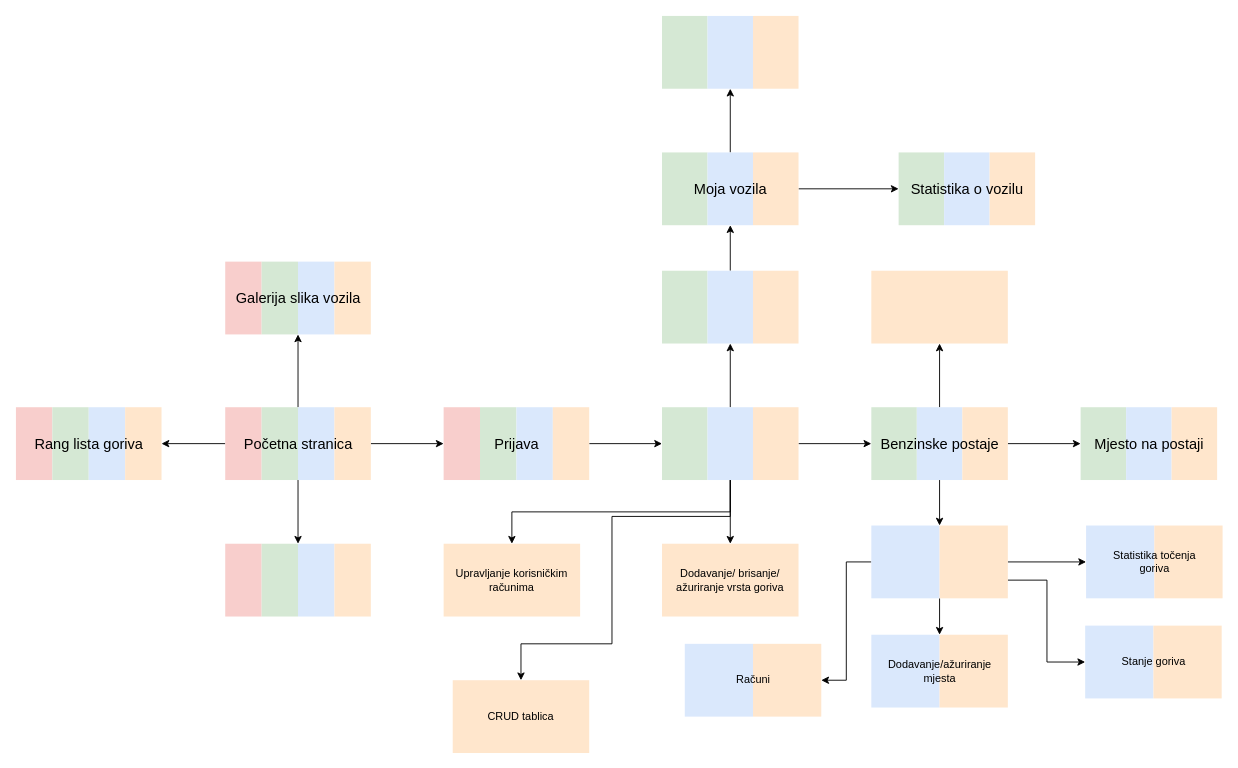
Some shapes in this 1238 by 768 pixel diagram are drawn without their labels. Each missing label, with the box of its shape:
Dodavanje/ brisanje/ ažuriranje postaja: (871, 270, 1007, 343)
Moj profil: (707, 270, 753, 343)
Podatci o vozilu: (707, 15, 753, 88)
Prijavljeni korisnik početna: (707, 407, 753, 480)
Registracija: (298, 543, 334, 616)
Uređenje postaje: (939, 525, 1007, 598)
